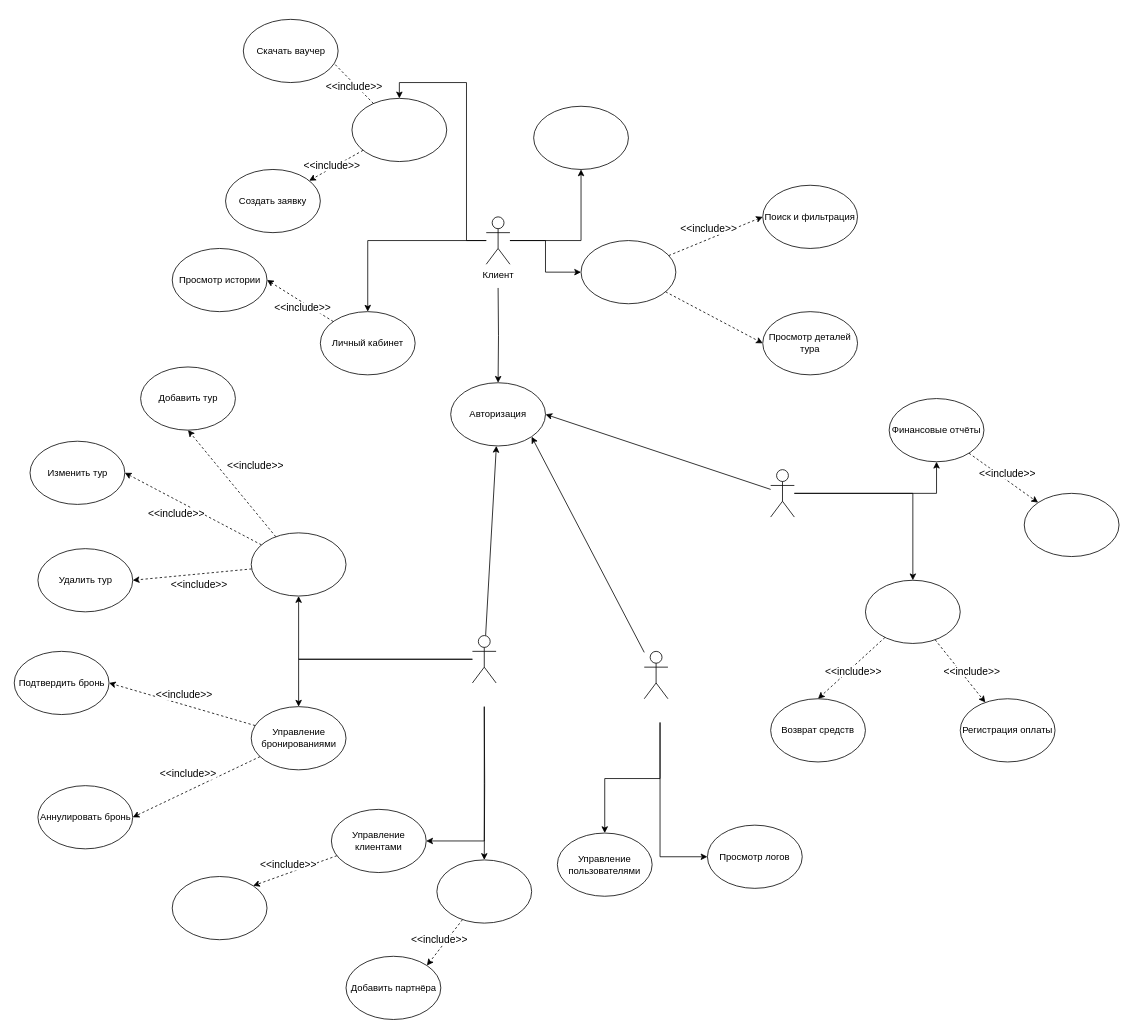
Some shapes in this 1133 by 1033 pixel diagram are drawn without their labels. The centre of each missing label's shape, as x and y in pixels:
"Администратор" belongs at point (655, 675).
"Бронирование" belongs at point (399, 130).
"Каталог туров" belongs at point (628, 272).
"Менеджер" belongs at point (484, 659).
"Отчёт по выручке" belongs at point (1071, 525).
"Регистрация" belongs at point (580, 137).
"Редактирование данных клиента" belongs at point (219, 908).
"Управление партнёрами" belongs at point (484, 891).
"Управление платежами" belongs at point (912, 611).
"Управление турами" belongs at point (298, 564).
"Финансовый специалист" belongs at point (782, 493).
